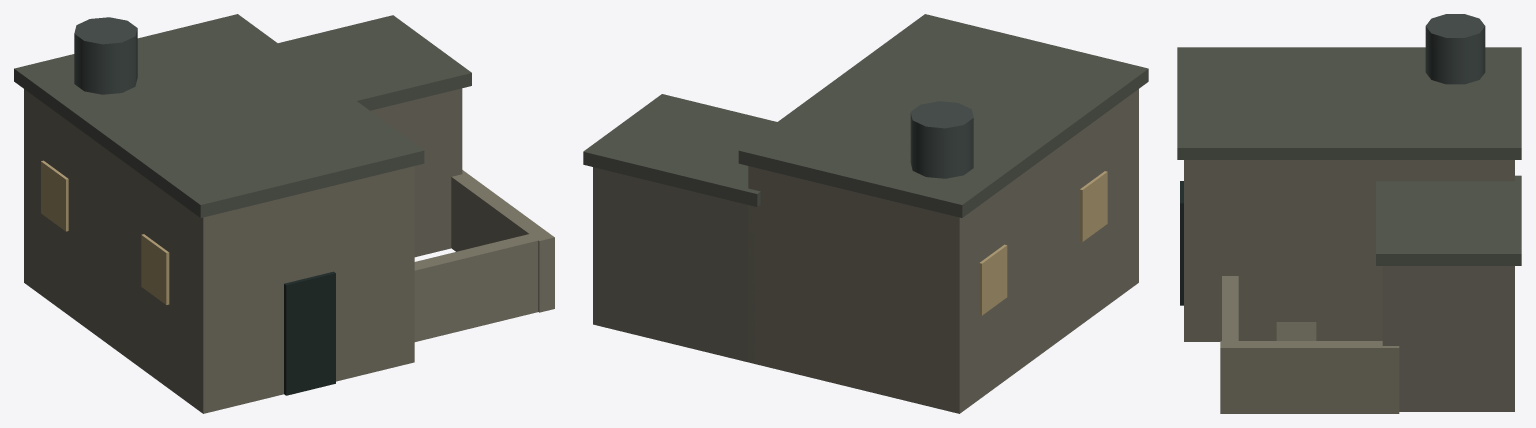
Rendered from house3.glb.
3 views of the same model, side by side, from view 1: azimuth 30°, elevation 25°; view 2: azimuth 150°, elevation 25°; view 3: azimuth 270°, elevation 25° (orthographic). The views are drawn at different scales.
Parts seen in each view (by area): view 1: house3; view 2: house3; view 3: house3.
Boxes of the visible parts, x1,y1,x2,y2 form: house3: (14,14,554,413); house3: (583,14,1148,413); house3: (1177,14,1521,413).
Bounding box in the file's own units: 12.2 × 8.1 × 10.4.
